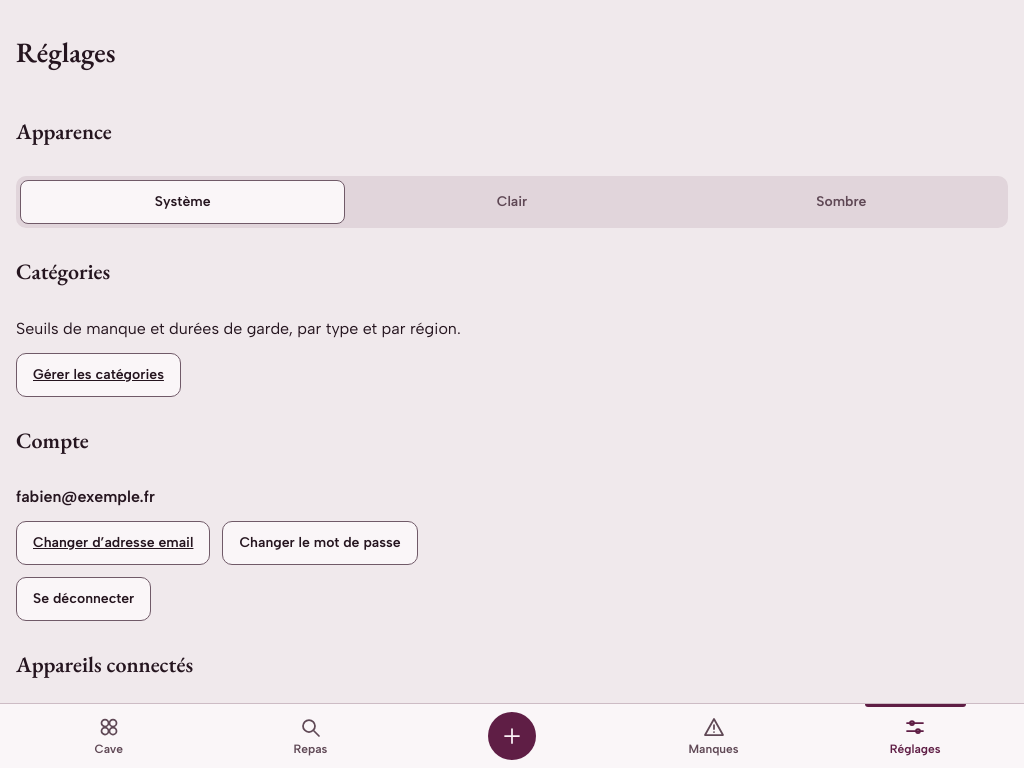
it: Réglages (CdC §3.9) › mot de passe : lien de réinitialisation envoyé à l’adresse du compte
Expected: the text "fabien@exemple.fr" is shown, [16,487,155,506]
Click the button "Changer le mot de passe" at (320, 543), box [222,521,418,565]
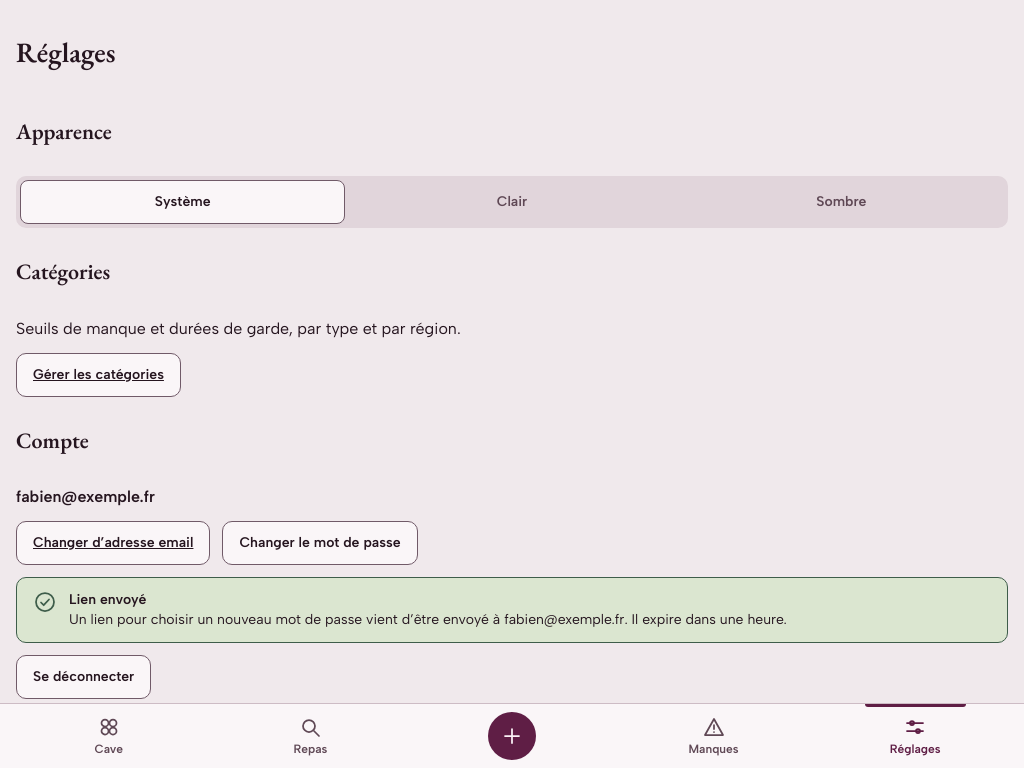
Result: the message "Lien envoyé" shows "Un lien pour choisir un nouveau mot de passe vient d’être envoyé à fabien@exemple.fr. Il expire dans une heure." at [16,577,1008,643]
